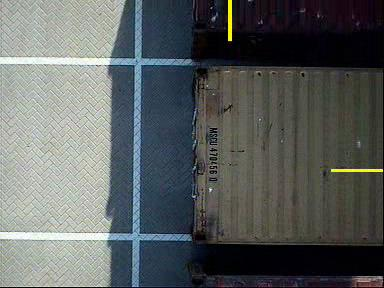groundmarker_2: (63, 142, 136, 193)
